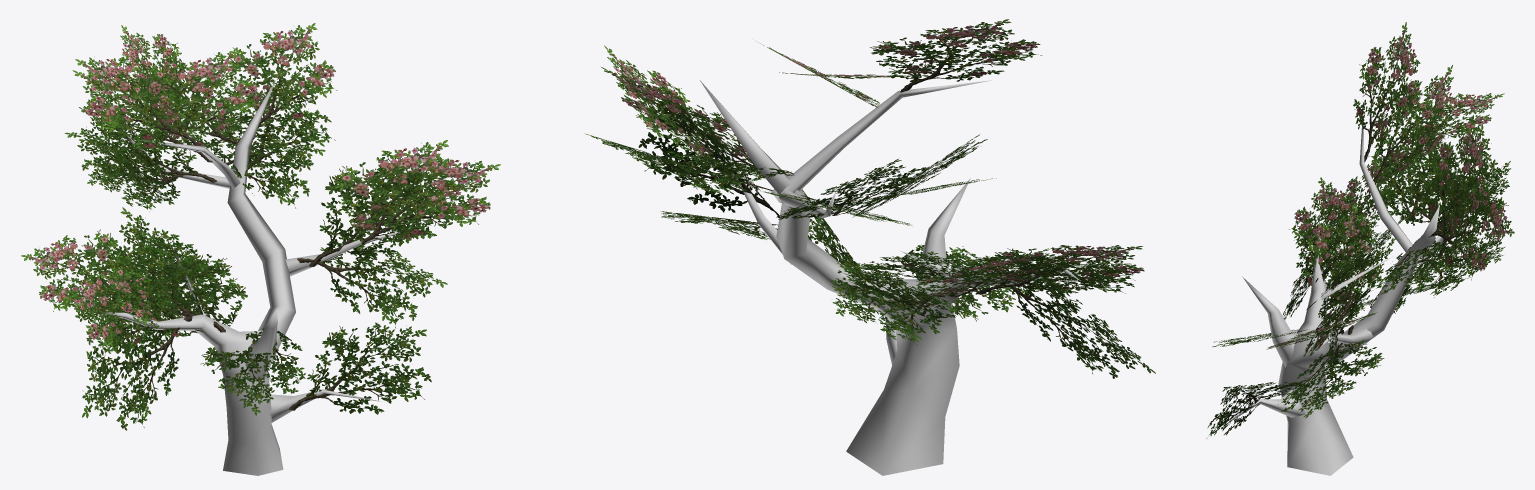
File: zc_erhai_huashu01.FBX
3 views of the same model, side by side, from view 1: azimuth 30°, elevation 25°; view 2: azimuth 150°, elevation 25°; view 3: azimuth 270°, elevation 25° (orthographic). The views are drawn at different scales.
Parts seen in each view (by area): view 1: zc_erhai_huashu01; view 2: zc_erhai_huashu01; view 3: zc_erhai_huashu01.
Boxes of the visible parts, <box> form: zc_erhai_huashu01: <box>21,23,500,475</box>; zc_erhai_huashu01: <box>585,19,1155,475</box>; zc_erhai_huashu01: <box>1206,22,1514,475</box>.
Size of the model in its own units: 530 by 459 by 355.
